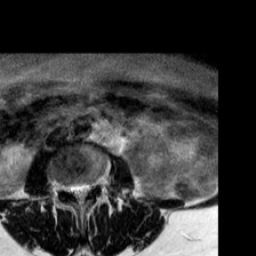CCS_normal: (76, 173, 83, 214)
LFS_normal: (91, 170, 99, 196)
LLS_normal: (83, 173, 91, 201)
RFS_normal: (60, 173, 68, 197)
RLS_normal: (68, 174, 76, 202)
